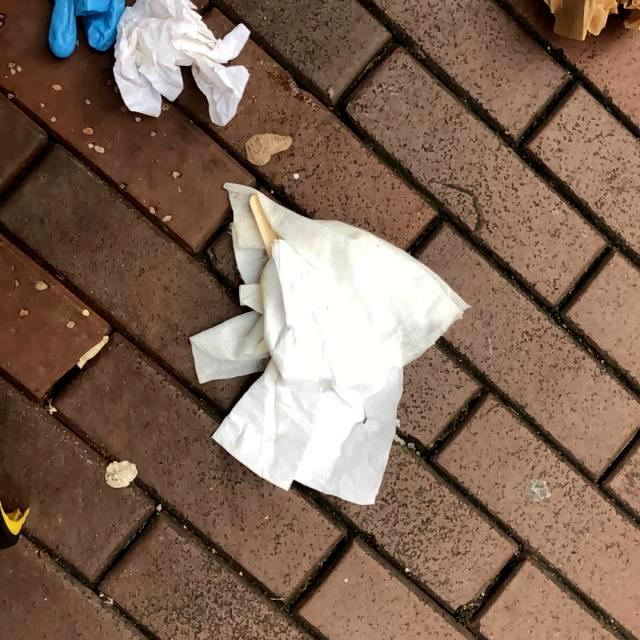Paper: (112, 0, 245, 126)
